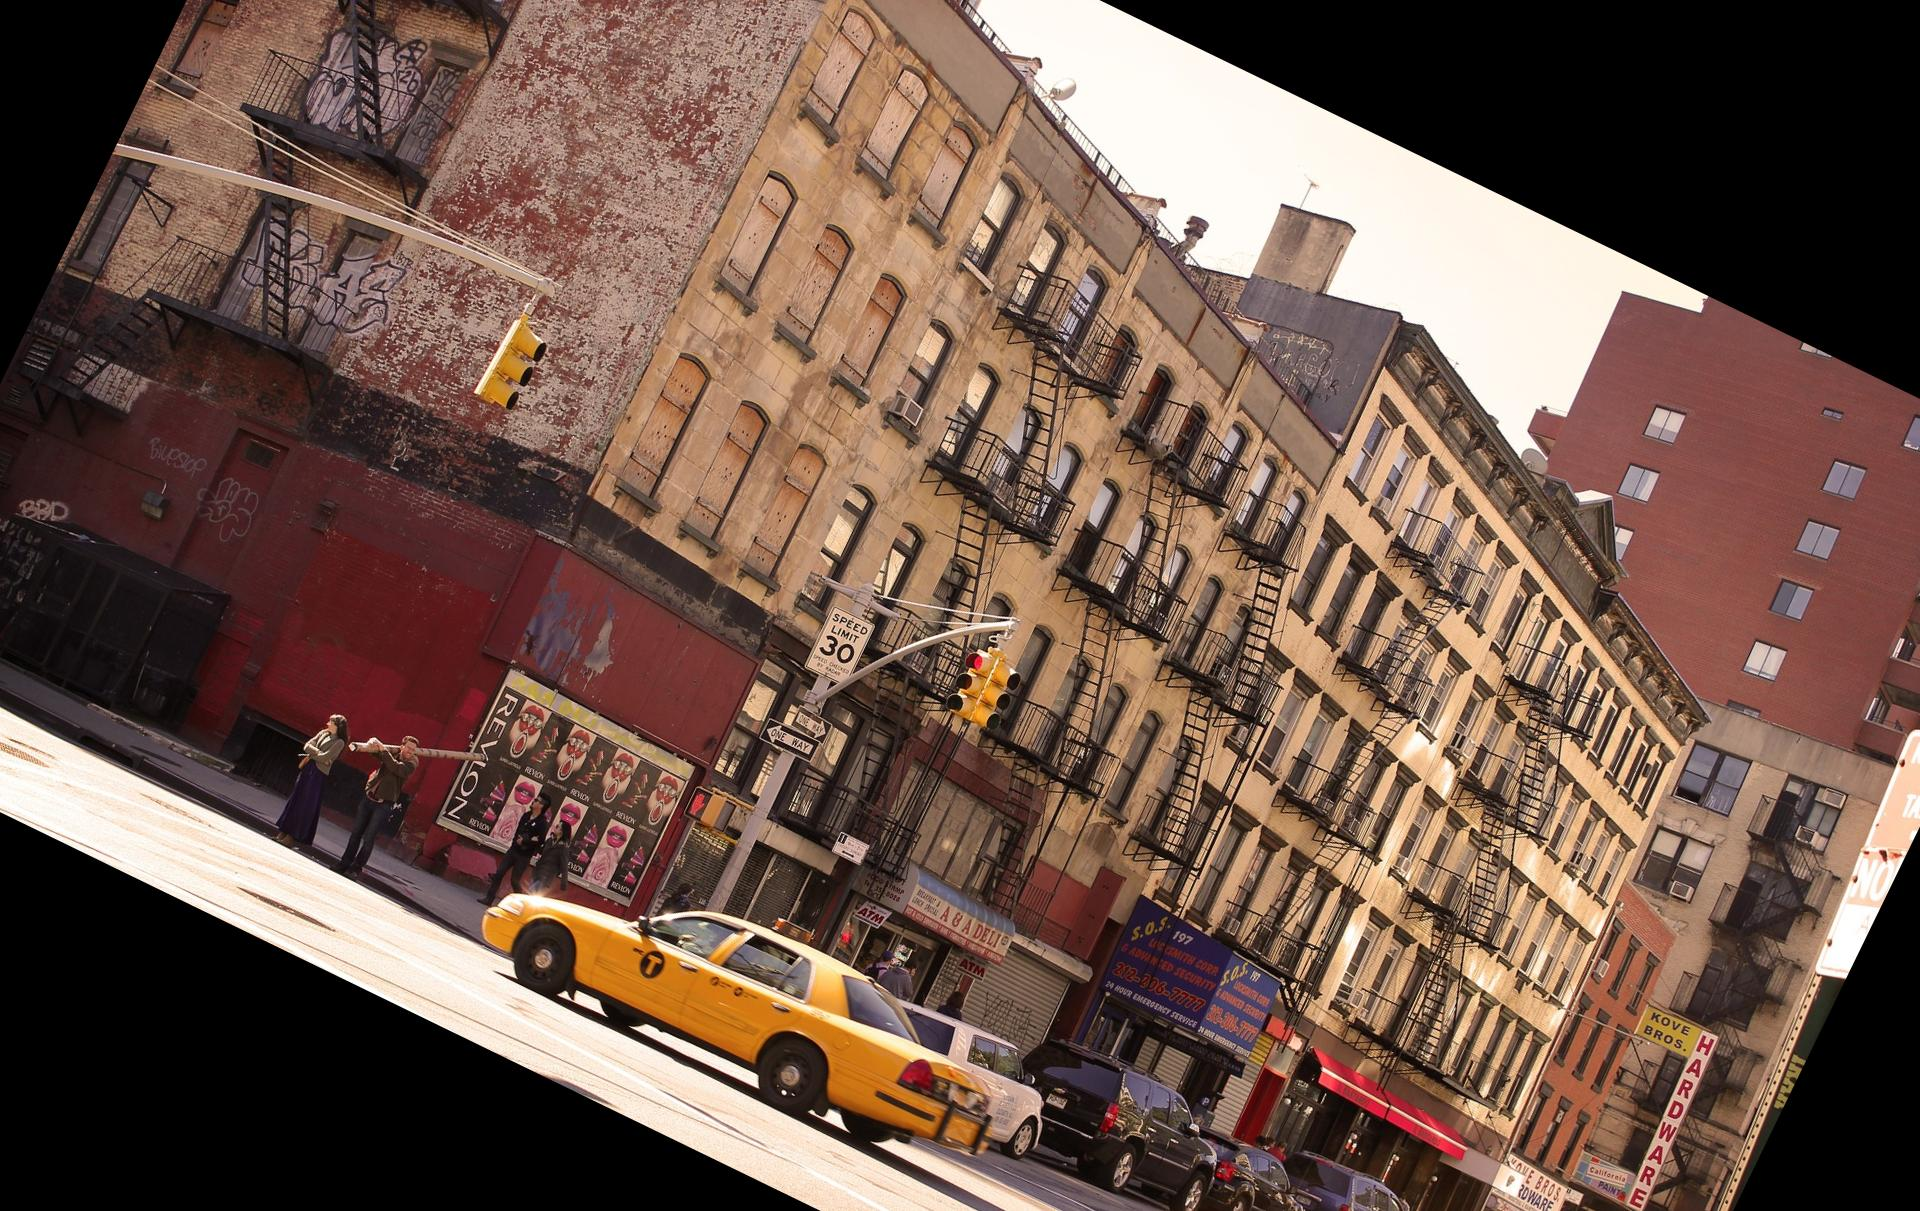taxi: (447, 864, 991, 1169)
